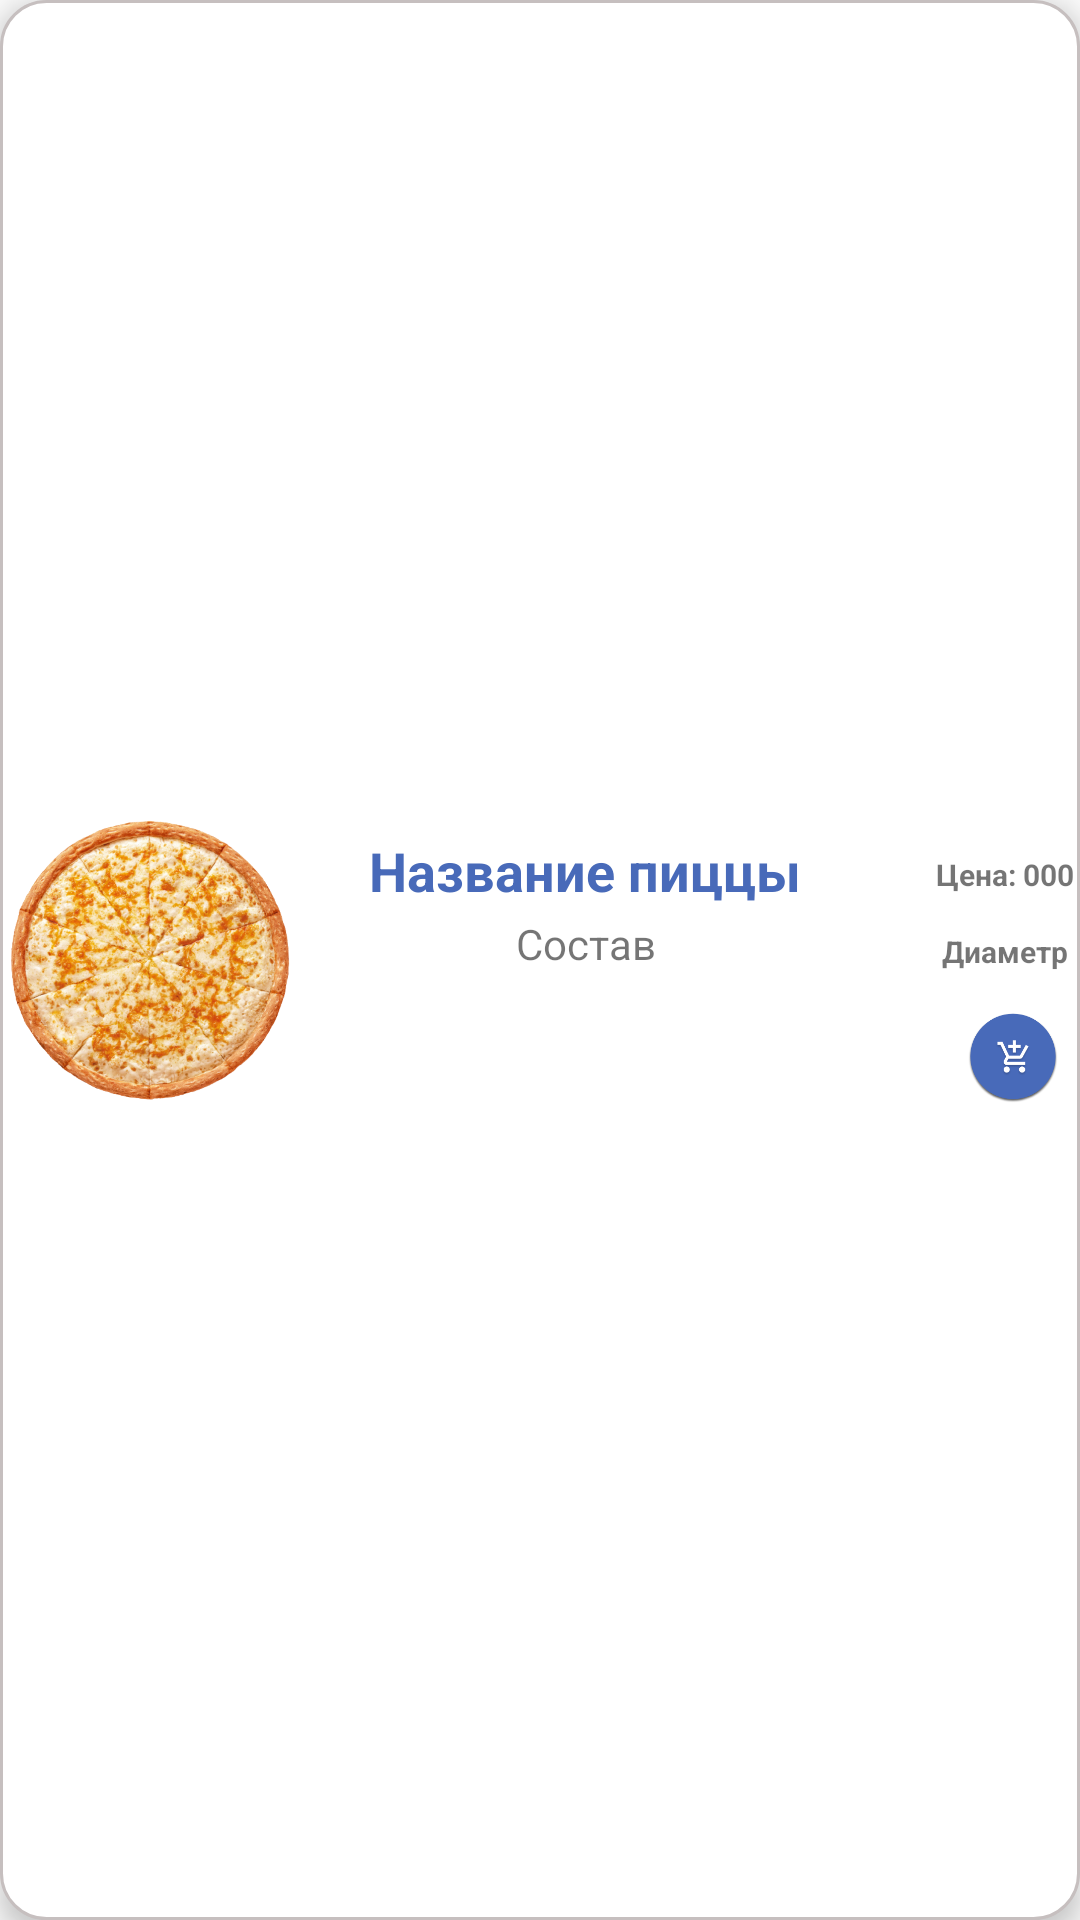

Locate icon controls on the screen. Image size 1080x1920, boxes as bbox(x1, y1, x2, y2).
add basket: bbox(969, 1013, 1057, 1102)
cheese pizza: bbox(11, 821, 289, 1100)
